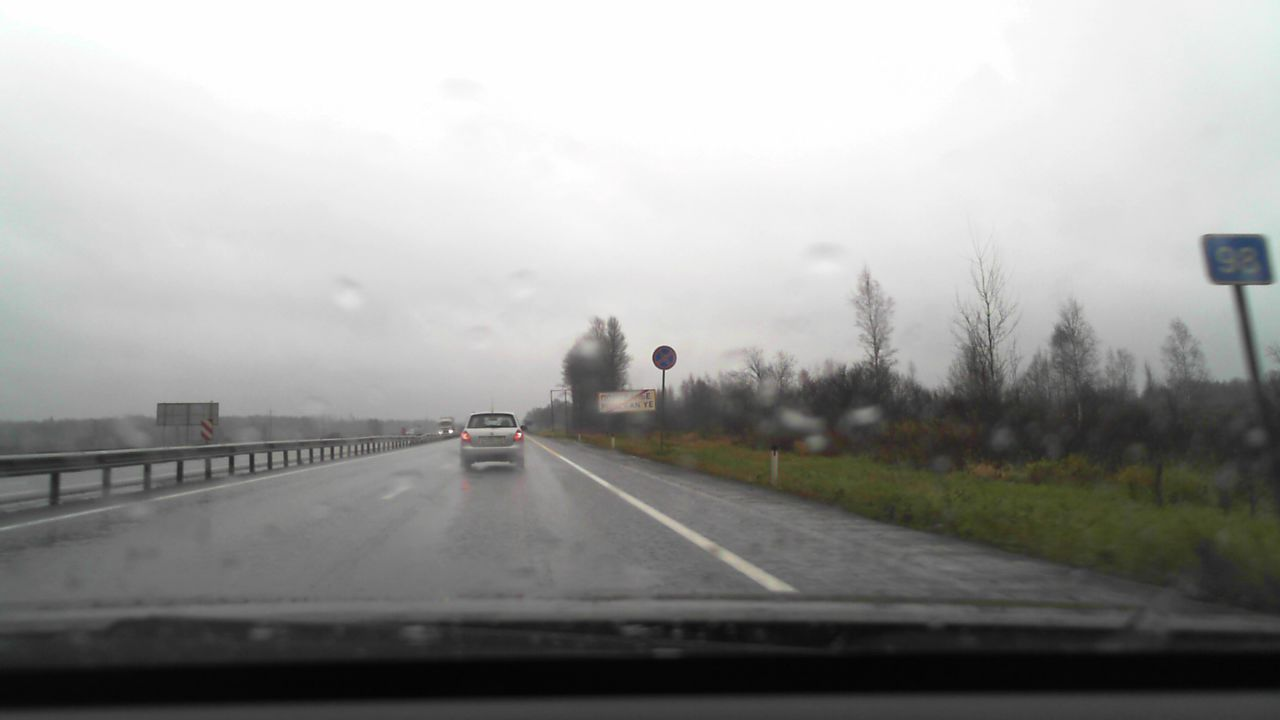No Parking: (652, 345, 676, 370)
